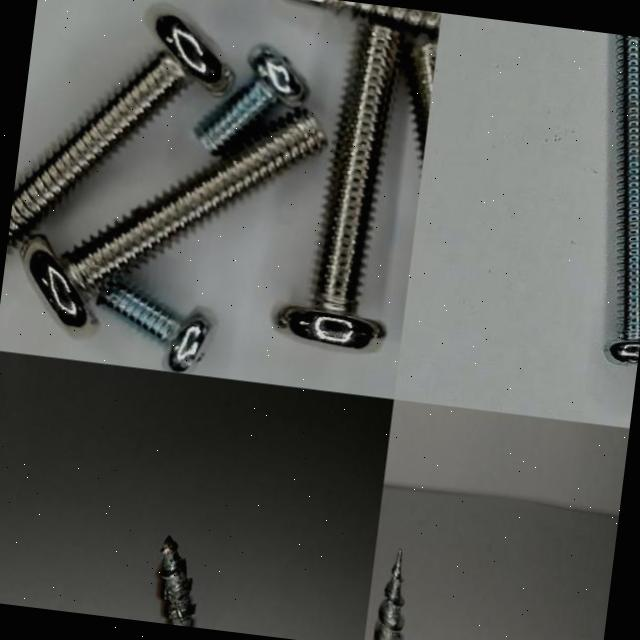Screw: (20, 108, 326, 328), (7, 14, 232, 245), (276, 21, 401, 349), (193, 44, 308, 154), (603, 34, 640, 363), (98, 286, 209, 373), (297, 0, 441, 36), (160, 534, 195, 627), (373, 547, 404, 640)
